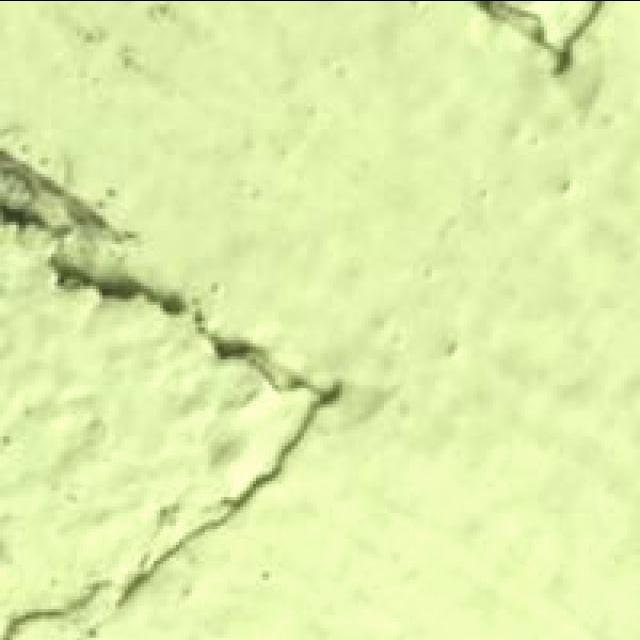SurfaceCrack: (0, 104, 348, 640), (480, 0, 610, 108)
